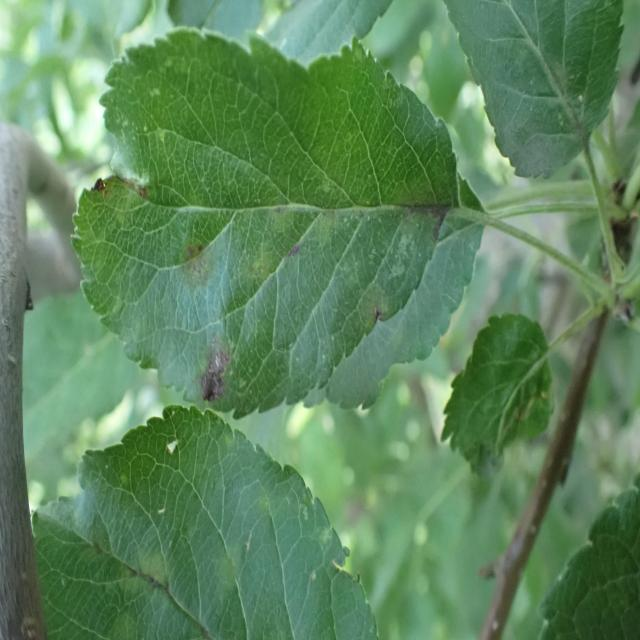scab: (80, 83, 460, 417), (54, 443, 348, 640), (494, 8, 624, 192)
